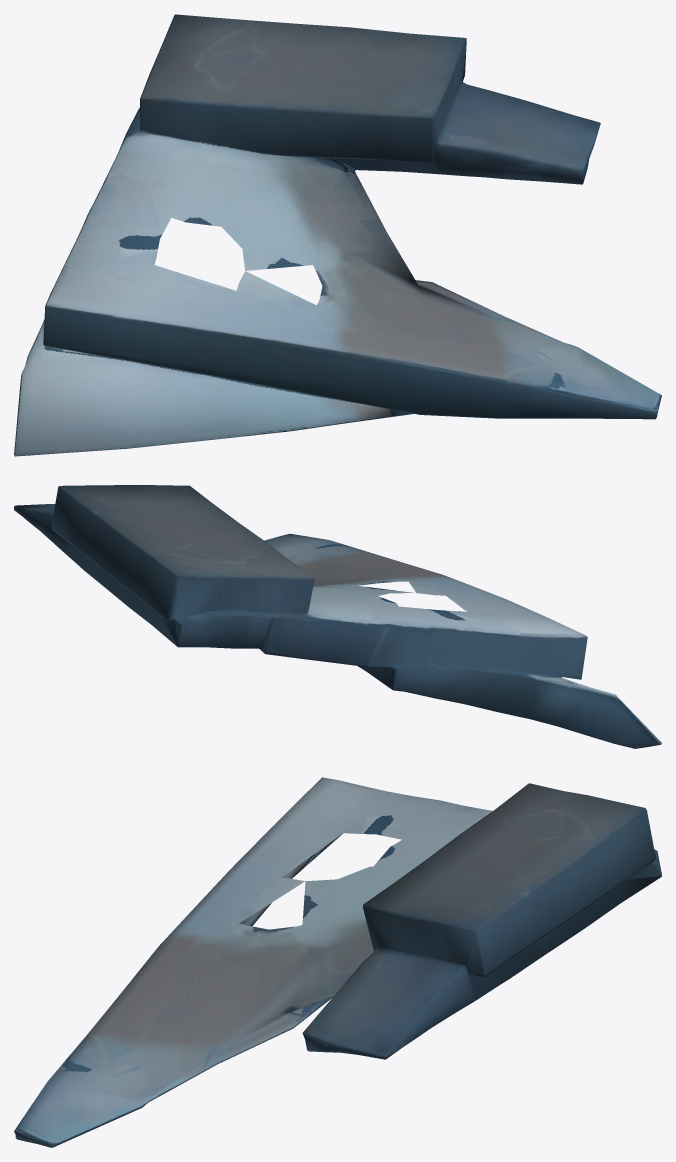
The picture shows the model from 3 angles, top to bottom: view 1: azimuth 30°, elevation 25°; view 2: azimuth 150°, elevation 25°; view 3: azimuth 270°, elevation 25°; orthographic projection. The views are drawn at different scales.
Visible parts, largest first — view 1: tripo_part_5; view 2: tripo_part_5; view 3: tripo_part_5.
Part boxes in pixels (<box>): tripo_part_5: <box>14,14,661,456</box>; tripo_part_5: <box>14,485,661,748</box>; tripo_part_5: <box>14,777,661,1147</box>.
Bounding box in the file's own units: 0.6218 × 0.2129 × 0.522.
1 material, 1 textured.
